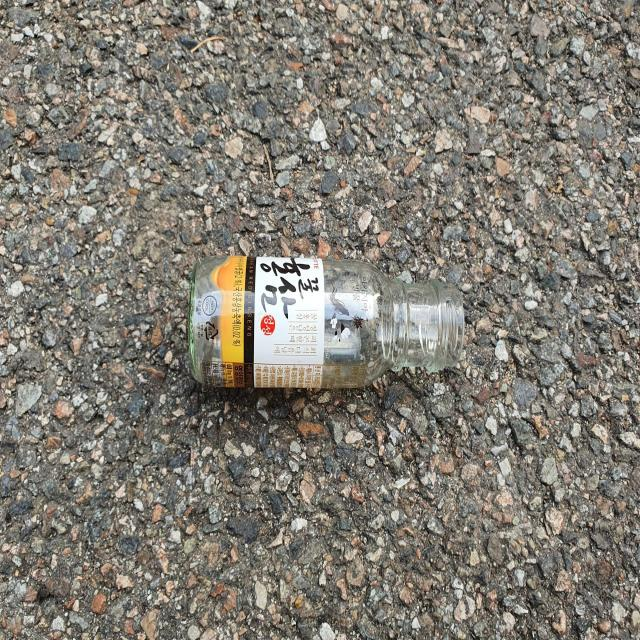glass: (188, 256, 465, 388)
